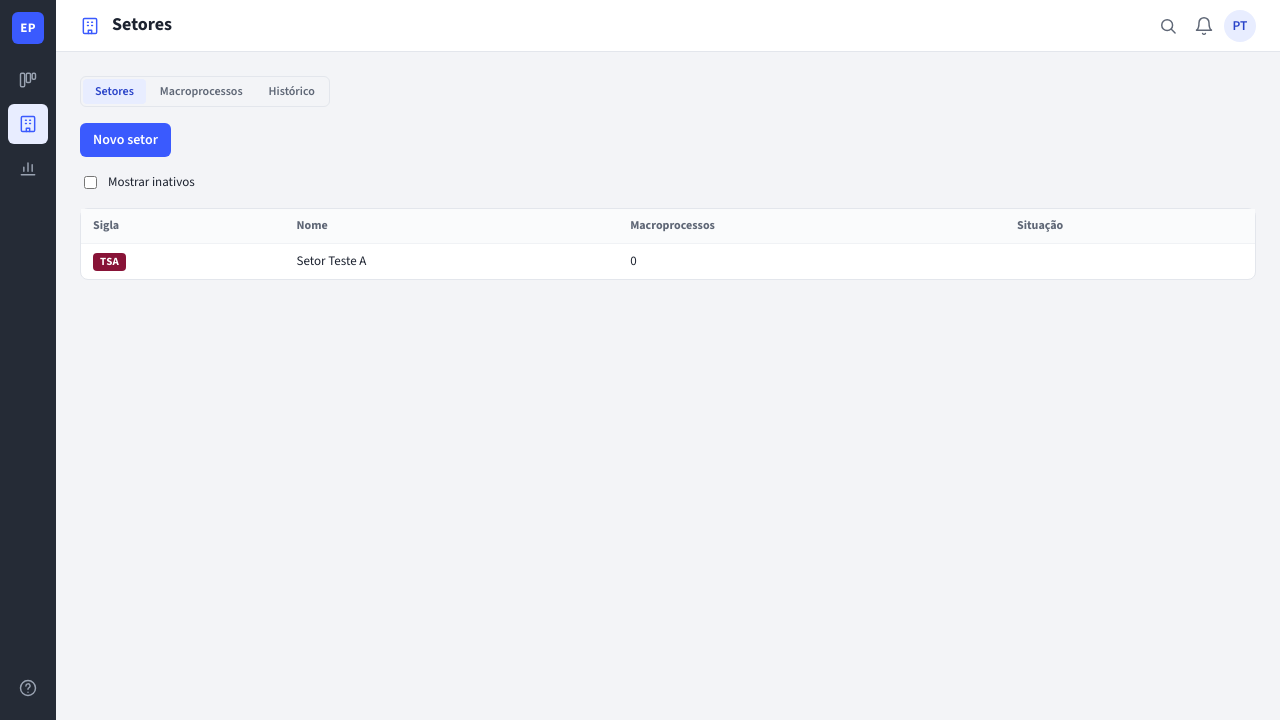
Test case: clicar num processo abre o painel dele sobre a Lista do setor
Click the cell "TSA" at [183, 262], box [81,244,284,279]
(page scrolled)
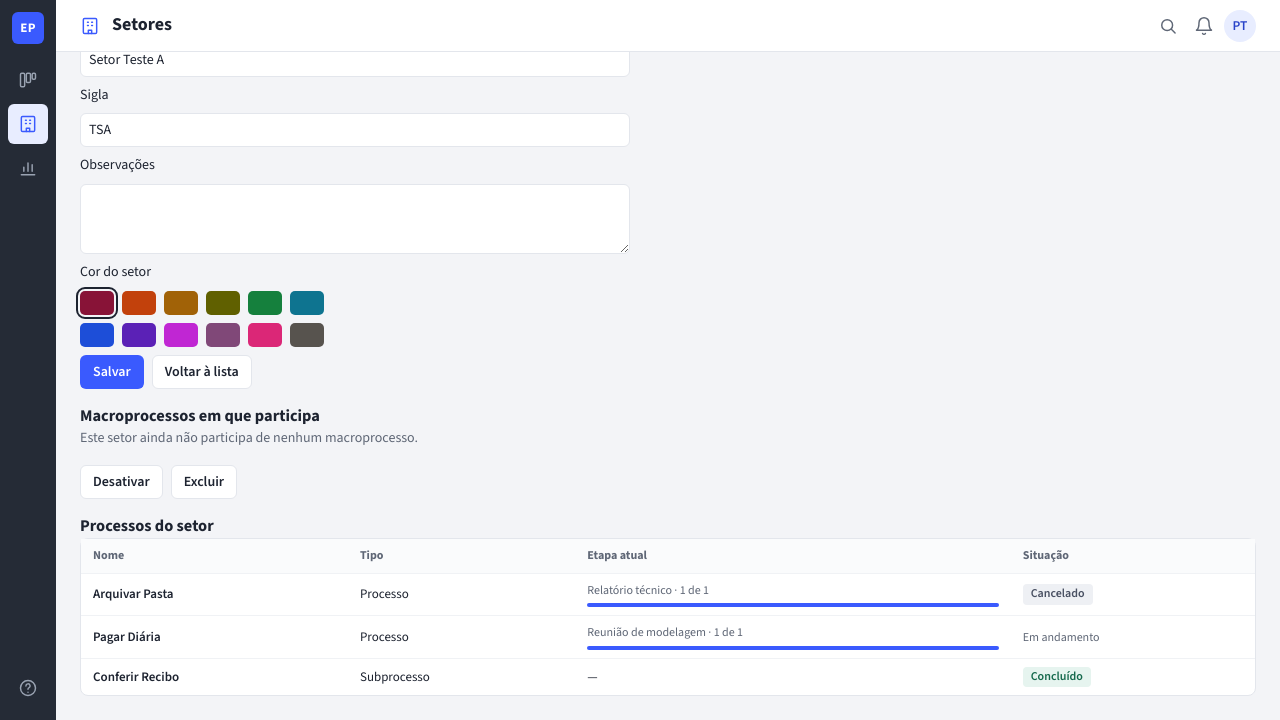
Click the cell named "Etapa 1 de 1: Reunião de modelagem" at [793, 638], box [575,616,1011,659]
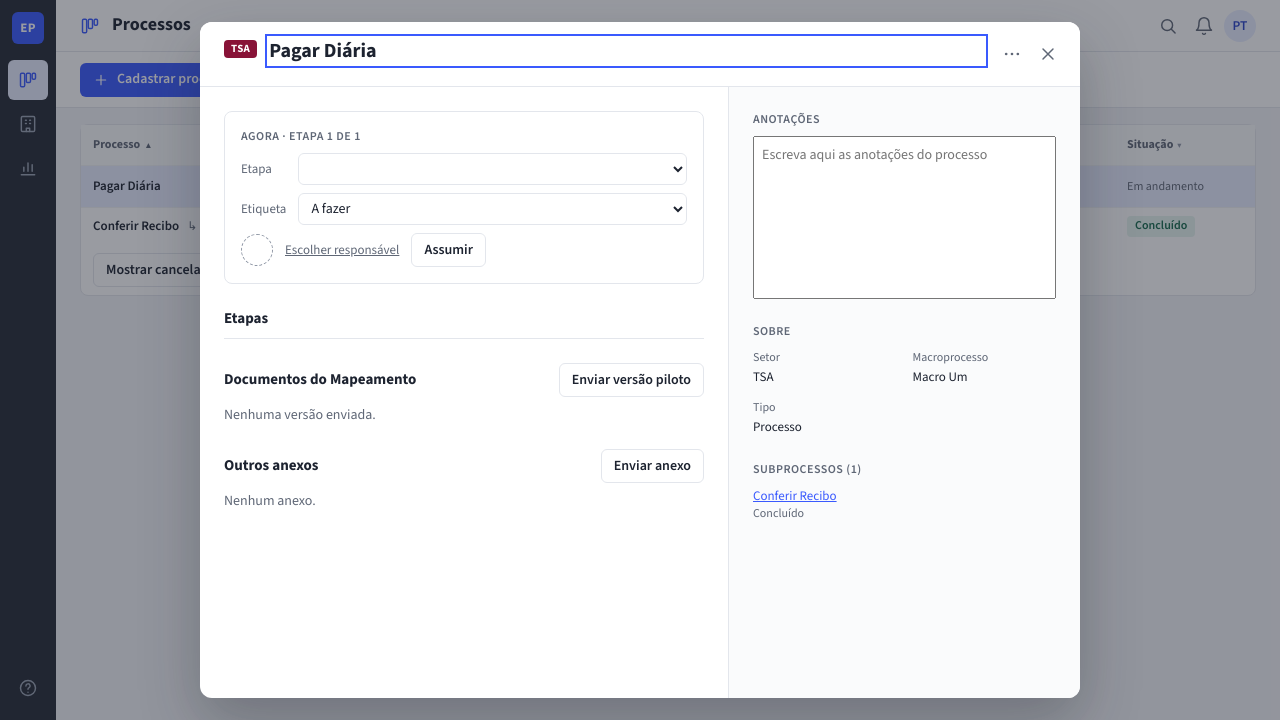
Result: the dialog named "Processo Pagar Diária" is shown
